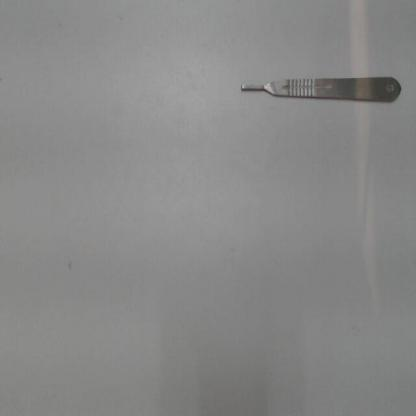No.3 BP Handle: (236, 71, 407, 107)
